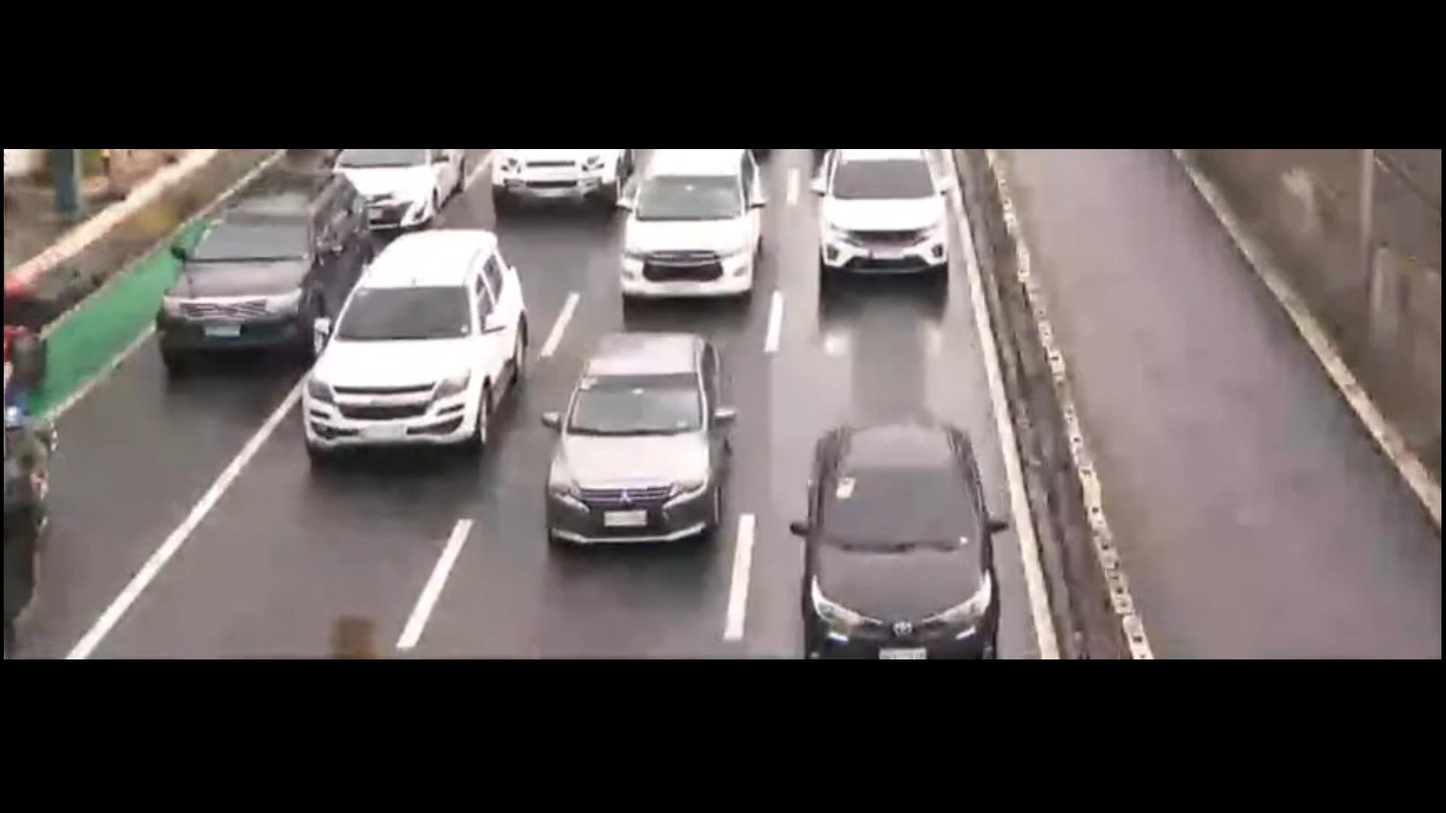SUV: (298, 213, 540, 483), (131, 170, 389, 369), (614, 148, 785, 297), (815, 151, 959, 300)
Sedan: (782, 398, 1007, 663), (542, 319, 756, 560), (331, 149, 472, 237)
